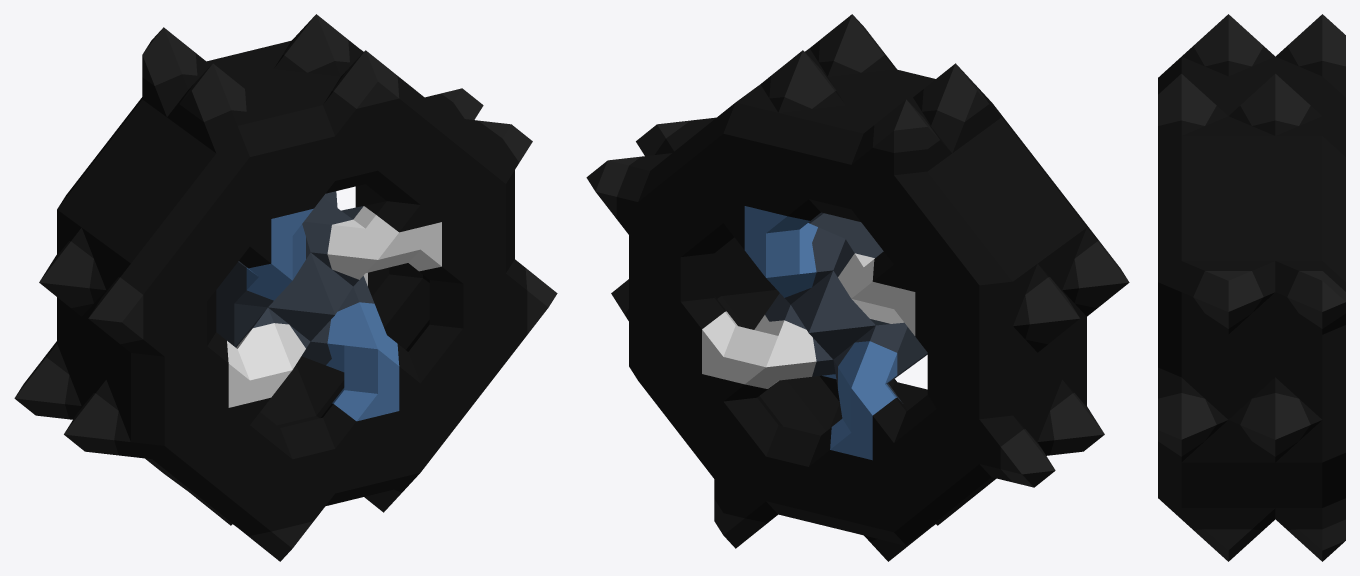
The model's file is icgrip.fbx.
3 renders of one model, left to right at view 1: azimuth 30°, elevation 25°; view 2: azimuth 150°, elevation 25°; view 3: azimuth 270°, elevation 25°, orthographic. The views are drawn at different scales.
Parts seen in each view (by area): view 1: icgrip; view 2: icgrip; view 3: icgrip.
Boxes of the visible parts, box(x1,y1,x2,y2) form: icgrip: box(14, 14, 557, 561); icgrip: box(586, 14, 1129, 561); icgrip: box(1158, 14, 1345, 561).
Bounding box in the file's own units: 433 × 433 × 157.
